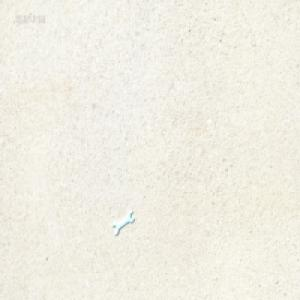Wrench: (112, 210, 134, 236)
